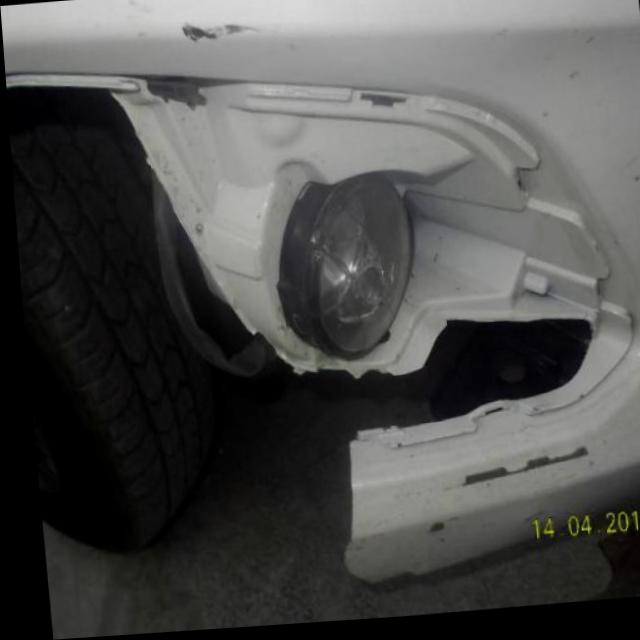Car-Damage: (120, 40, 640, 609), (174, 11, 262, 53)
